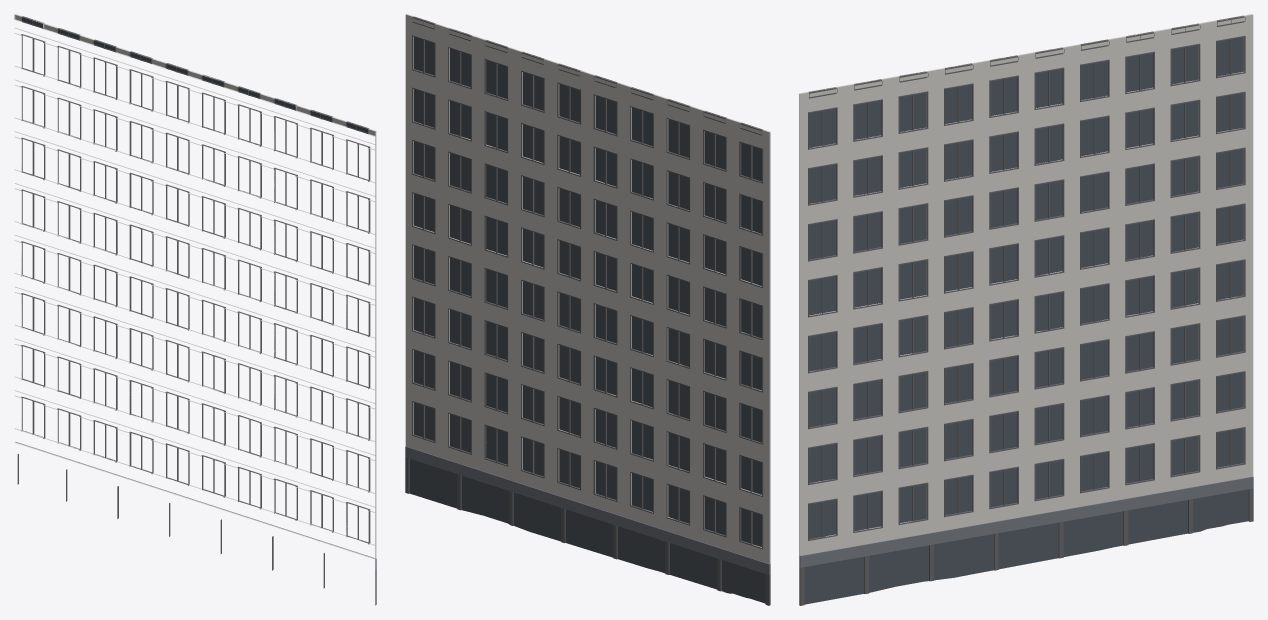
File: d22-hinaga-facade.glb
3 views of the same model, side by side, from view 1: azimuth 30°, elevation 25°; view 2: azimuth 210°, elevation 25°; view 3: azimuth 270°, elevation 25° (orthographic). The views are drawn at different scales.
Parts seen in each view (by area): view 1: group1_d22_district_source_wall_palette_1, group0_d22_district_source_glass_palette_0; view 2: group1_d22_district_source_wall_palette_1, group0_d22_district_source_glass_palette_0; view 3: group1_d22_district_source_wall_palette_1, group0_d22_district_source_glass_palette_0.
Boxes of the visible parts, x1,y1,x2,y2 form: group1_d22_district_source_wall_palette_1: (14, 14, 376, 605); group0_d22_district_source_glass_palette_0: (22, 17, 367, 133); group1_d22_district_source_wall_palette_1: (405, 14, 770, 605); group0_d22_district_source_glass_palette_0: (409, 37, 765, 603); group1_d22_district_source_wall_palette_1: (799, 14, 1253, 605); group0_d22_district_source_glass_palette_0: (804, 37, 1248, 604).
Bounding box in the file's own units: 10.5 × 31.15 × 25.05.
2 materials, 1 textured.
